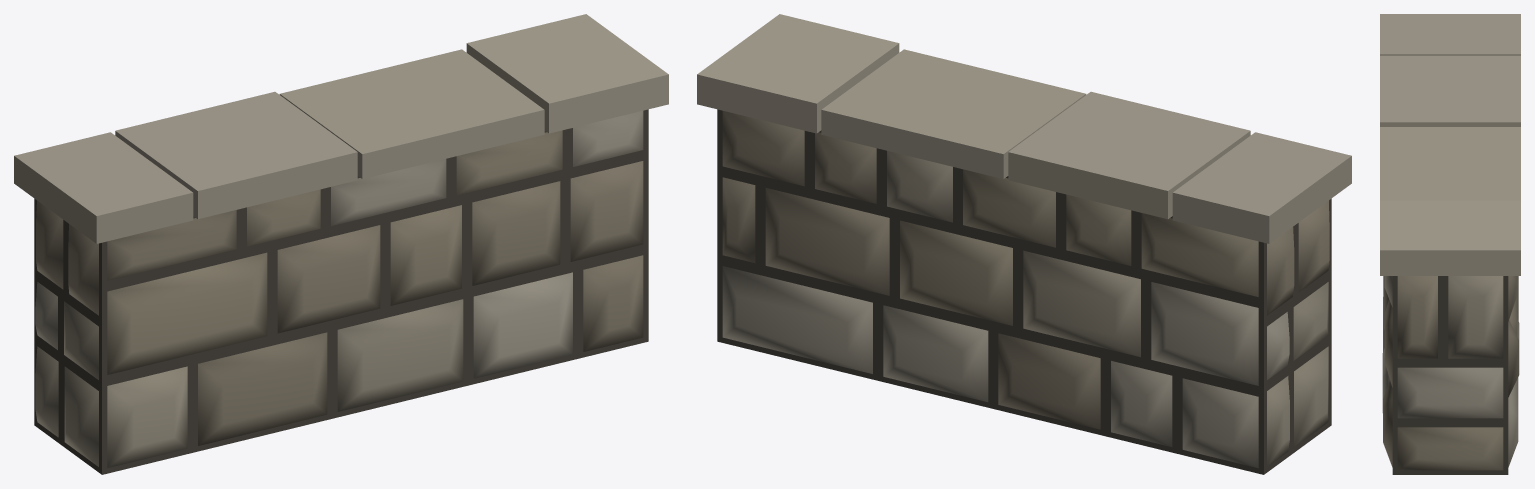
File: wall.fieldstone_short.limestone.glb
3 views of the same model, side by side, from view 1: azimuth 30°, elevation 25°; view 2: azimuth 150°, elevation 25°; view 3: azimuth 270°, elevation 25° (orthographic). The views are drawn at different scales.
Parts seen in each view (by area): view 1: wall_fieldstone_short_limestone; view 2: wall_fieldstone_short_limestone; view 3: wall_fieldstone_short_limestone.
Part boxes in pixels (x1=…): wall_fieldstone_short_limestone: x1=14, y1=14, x2=668, y2=474; wall_fieldstone_short_limestone: x1=697, y1=14, x2=1351, y2=474; wall_fieldstone_short_limestone: x1=1380, y1=14, x2=1520, y2=474.
Size of what is drawn, in the model's own units: 2 by 0.9 by 0.5.
